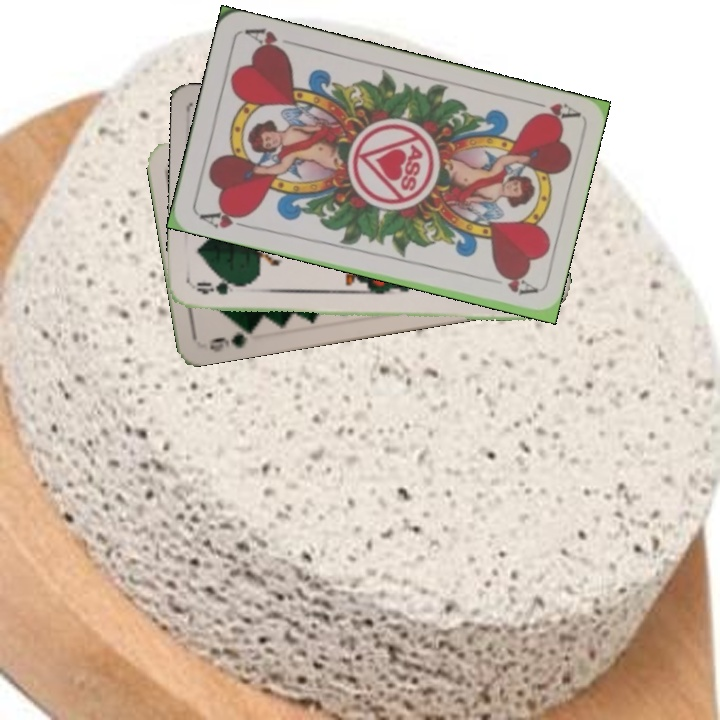G9: (205, 322, 258, 355)
GO: (193, 277, 250, 298)
HA: (522, 96, 581, 125), (195, 204, 253, 231)
